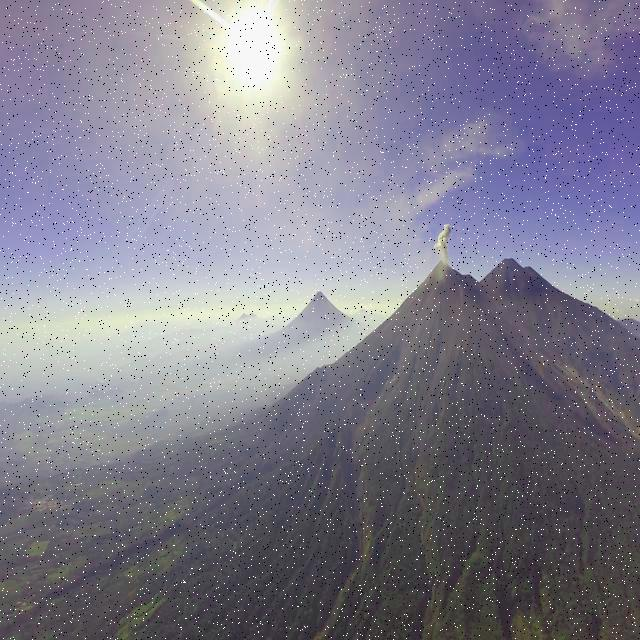Plume: (433, 220, 451, 263)
Summit: (431, 260, 461, 280)
